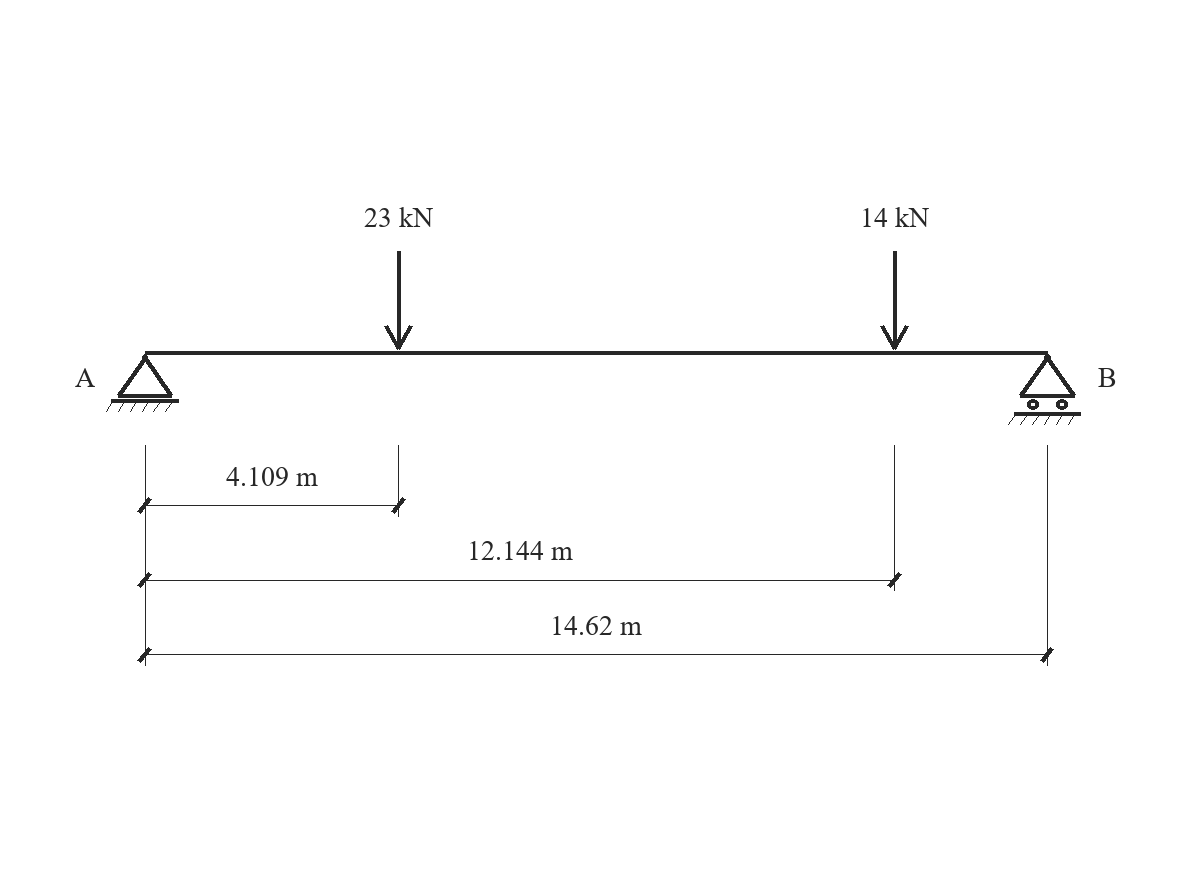pin_support: (106, 354, 179, 412)
point_load: (384, 251, 413, 350), (880, 251, 909, 350)
roller_support: (1008, 354, 1081, 425)
